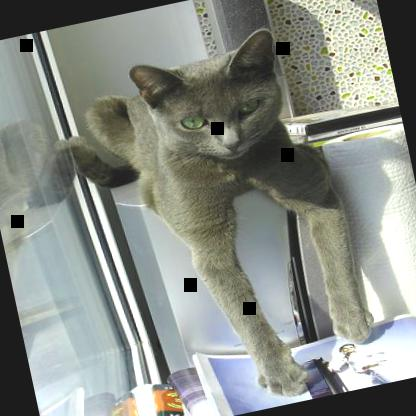cat: (53, 17, 388, 415)
